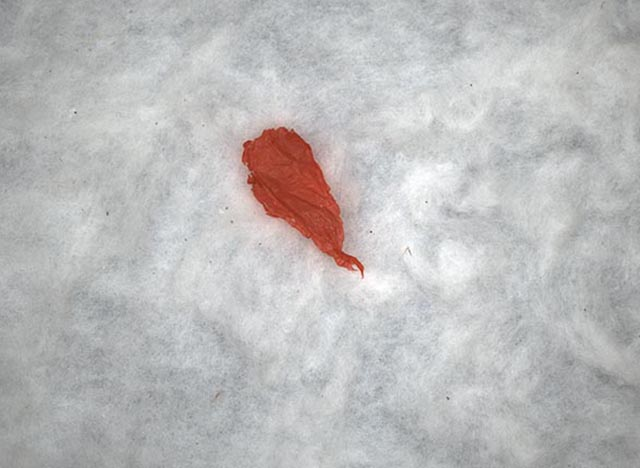plastic film: (242, 126, 366, 280)
